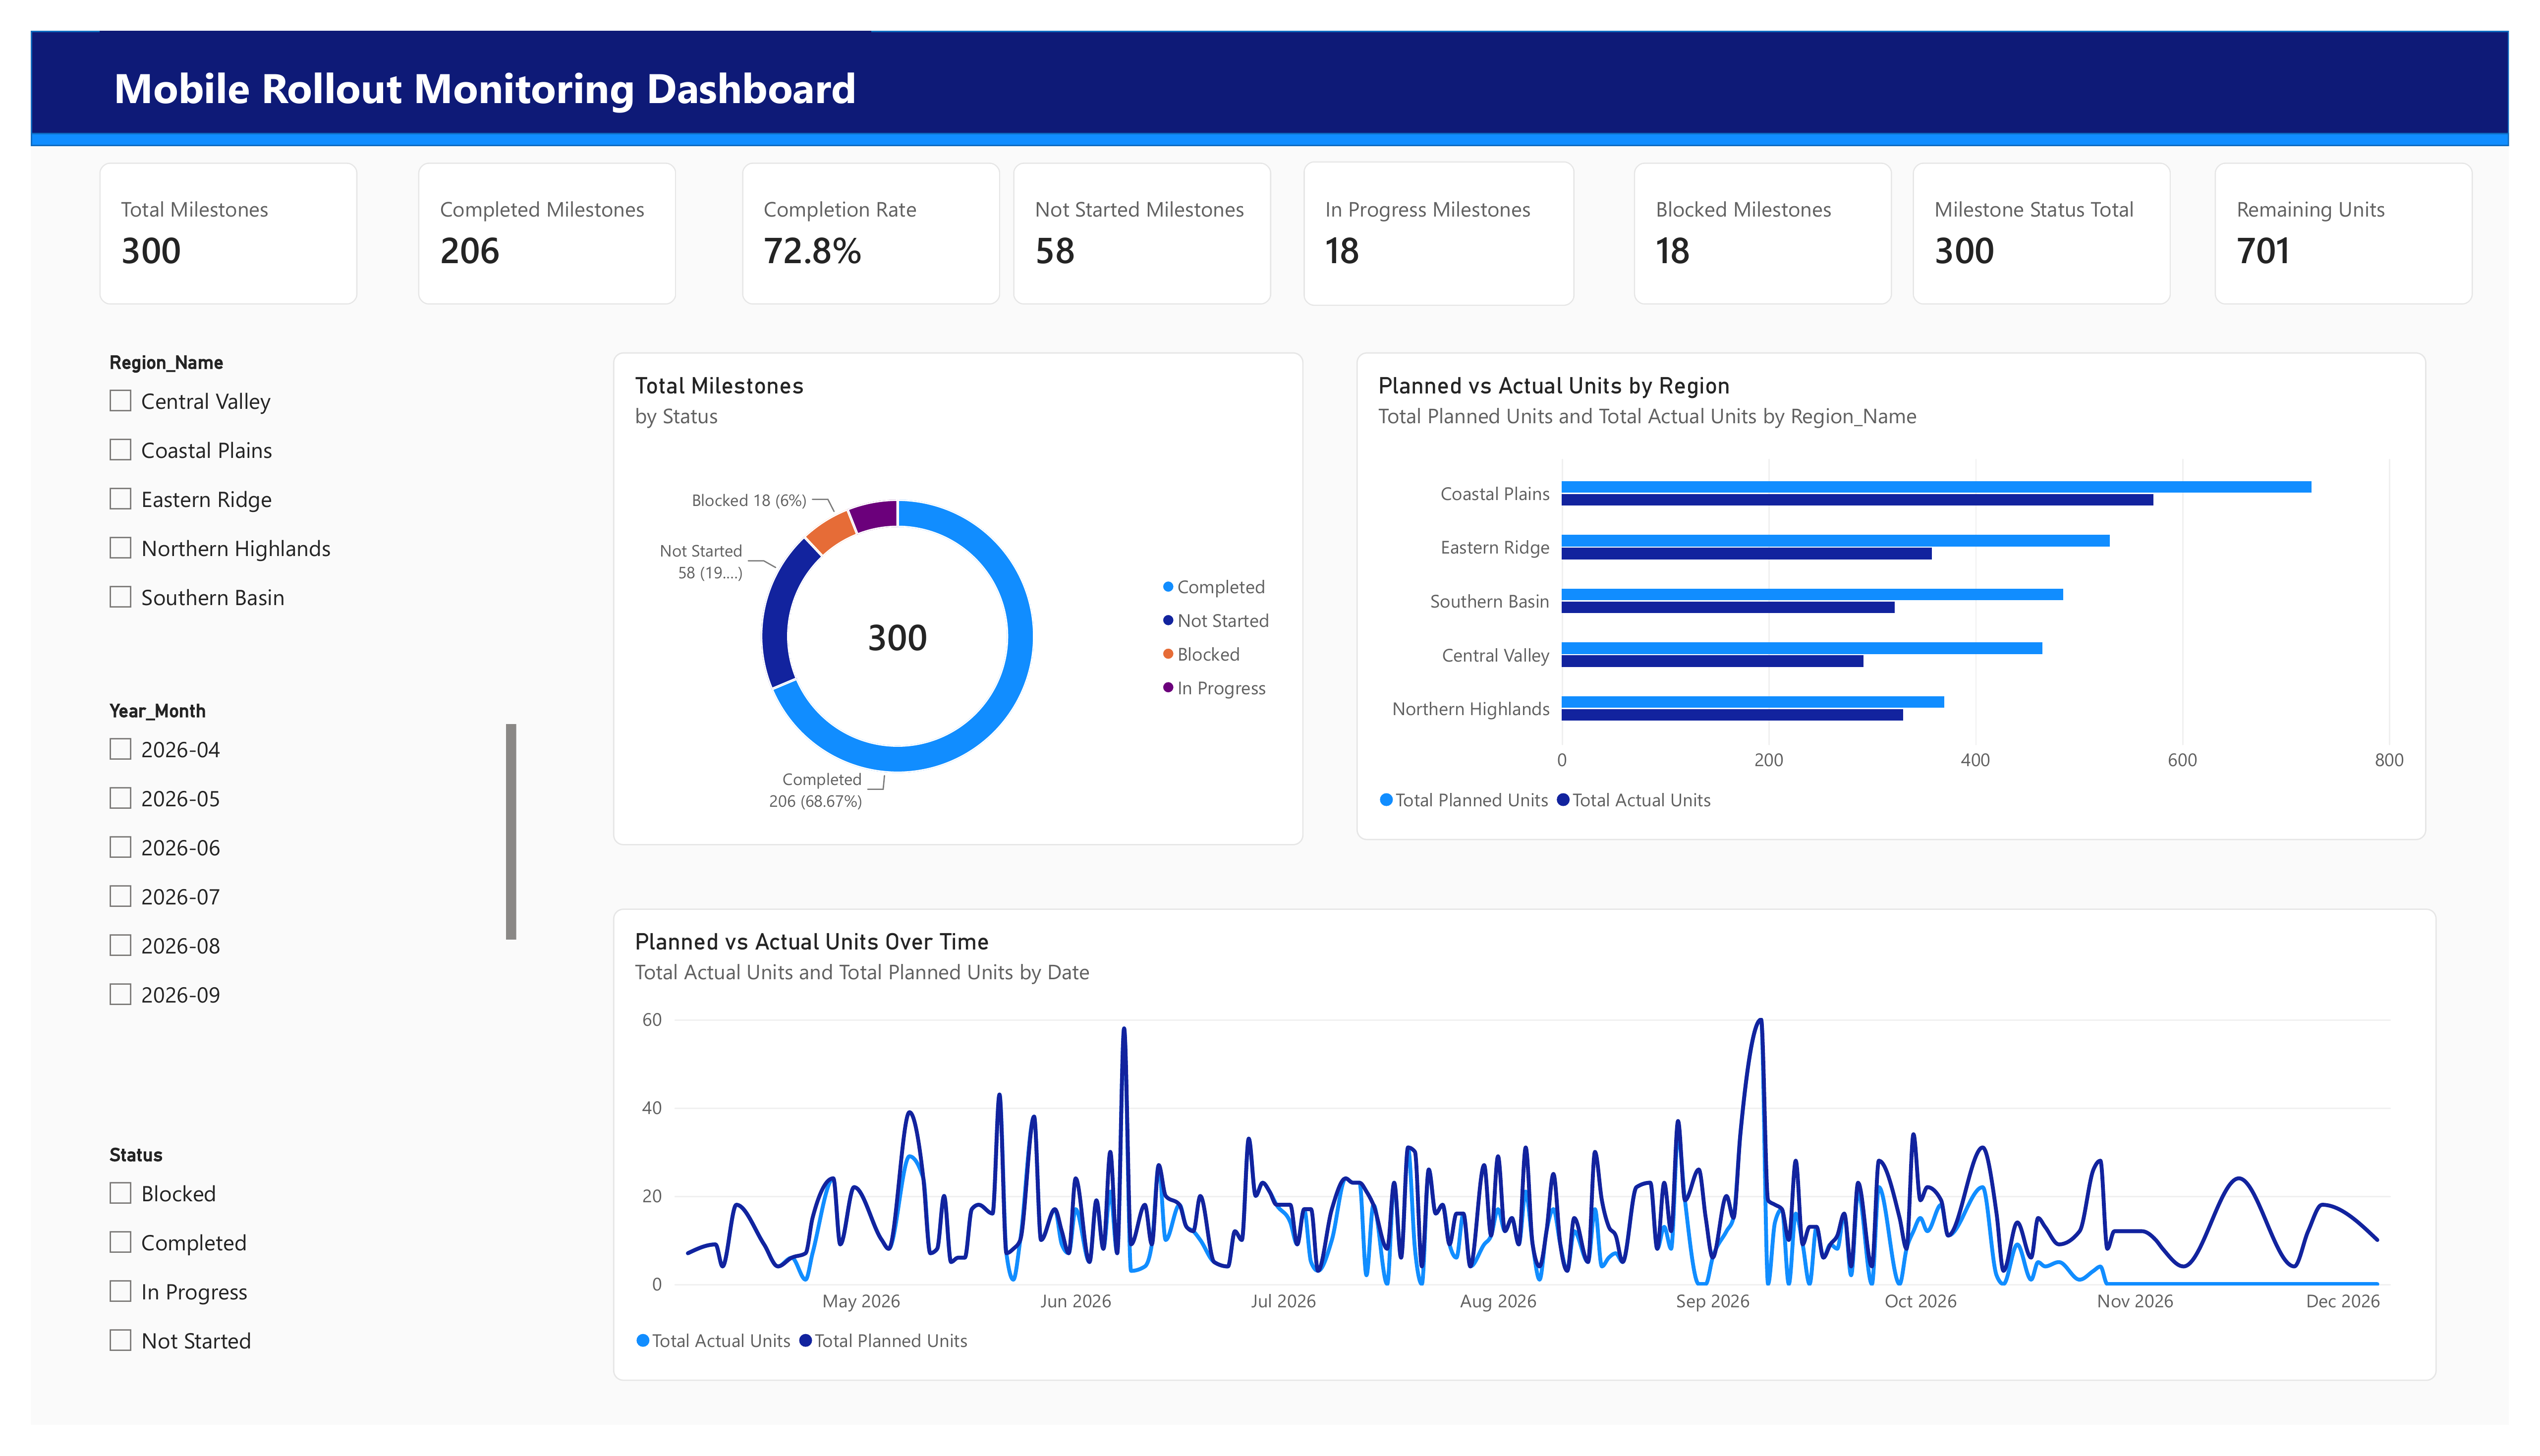

The page's visual inventory and layout, read from the dashboard file:
{"tool":"powerbi","page":{"name":"Rollout Overview","canvas":[1920,1080],"ordinal":0},"visuals":[{"type":"cardVisual","fields":{"Data":["Calendar.Total Milestones"]},"box":[53.1,102.2,200,110],"z":0},{"type":"cardVisual","fields":{"Data":["Calendar.Milestone Status Total"]},"box":[1458.4,102.2,200,110],"z":1000},{"type":"cardVisual","fields":{"Data":["Calendar.Completed Milestones"]},"box":[299.8,102.2,200,110],"z":2000},{"type":"cardVisual","fields":{"Data":["Calendar.Blocked Milestones"]},"box":[1241.6,102.2,200,110],"z":3000},{"type":"cardVisual","fields":{"Data":["Calendar.Not Started Milestones"]},"box":[761.1,102.2,200,110],"z":4000},{"type":"cardVisual","fields":{"Data":["Calendar.In Progress Milestones"]},"box":[986.5,100.9,210.5,112.7],"z":5000},{"type":"cardVisual","fields":{"Data":["Calendar.Completion Rate"]},"box":[550.6,102,200,110.6],"z":6000},{"type":"cardVisual","fields":{"Data":["Calendar.Remaining Units"]},"box":[1692.3,102.2,200,110],"z":7000},{"type":"donutChart","fields":{"Category":["Rollout.Status"],"Y":["Calendar.Total Milestones"]},"box":[450.7,248.7,535.7,382.7],"z":8000},{"type":"clusteredBarChart","title":"Planned vs Actual Units by Region","fields":{"Category":["Regions.Region_Name"],"Y":["Calendar.Total Planned Units","Calendar.Total Actual Units"]},"box":[1026.9,248.7,829.1,378.4],"z":9000},{"type":"lineChart","title":"Planned vs Actual Units Over Time","fields":{"Category":["Calendar.Date"],"Y":["Calendar.Total Actual Units","Calendar.Total Planned Units"]},"box":[450.7,680.3,1413.8,365.7],"z":10000},{"type":"slicer","fields":{"Values":["Regions.Region_Name"]},"box":[53.1,248.7,323.1,233.9],"z":11000},{"type":"slicer","fields":{"Values":["Rollout.Status"]},"box":[53.1,863.1,323.1,216.9],"z":12000},{"type":"slicer","fields":{"Values":["Calendar.Year_Month"]},"box":[53.1,518.7,323.1,257.2],"z":13000},{"type":"shape","box":[0,0,1919.8,89.3],"z":14000},{"type":"shape","box":[53.1,0,597.4,85],"z":15000},{"type":"shape","box":[0,78.7,1919.8,10.6],"z":16000}]}

Visuals, with their boxes in screenshot pixels (x1, y1, x2, y2), scaled from the page's 1920x1080 canvas onto the 2540x1456 screenshot:
cardVisual - Calendar.Total Milestones: box=[70, 138, 335, 286]
cardVisual - Calendar.Milestone Status Total: box=[1929, 138, 2194, 286]
cardVisual - Calendar.Completed Milestones: box=[396, 138, 661, 286]
cardVisual - Calendar.Blocked Milestones: box=[1642, 138, 1907, 286]
cardVisual - Calendar.Not Started Milestones: box=[1007, 138, 1271, 286]
cardVisual - Calendar.In Progress Milestones: box=[1305, 136, 1583, 288]
cardVisual - Calendar.Completion Rate: box=[729, 137, 993, 286]
cardVisual - Calendar.Remaining Units: box=[2239, 138, 2503, 286]
donutChart - Rollout.Status x Calendar.Total Milestones: box=[596, 336, 1305, 851]
"Planned vs Actual Units by Region" clusteredBarChart: box=[1358, 336, 2455, 845]
"Planned vs Actual Units Over Time" lineChart: box=[596, 917, 2467, 1410]
slicer - Regions.Region_Name: box=[70, 336, 498, 651]
slicer - Rollout.Status: box=[70, 1164, 498, 1456]
slicer - Calendar.Year_Month: box=[70, 699, 498, 1046]
shape: box=[0, 0, 2540, 120]
shape: box=[70, 0, 860, 114]
shape: box=[0, 106, 2540, 120]
